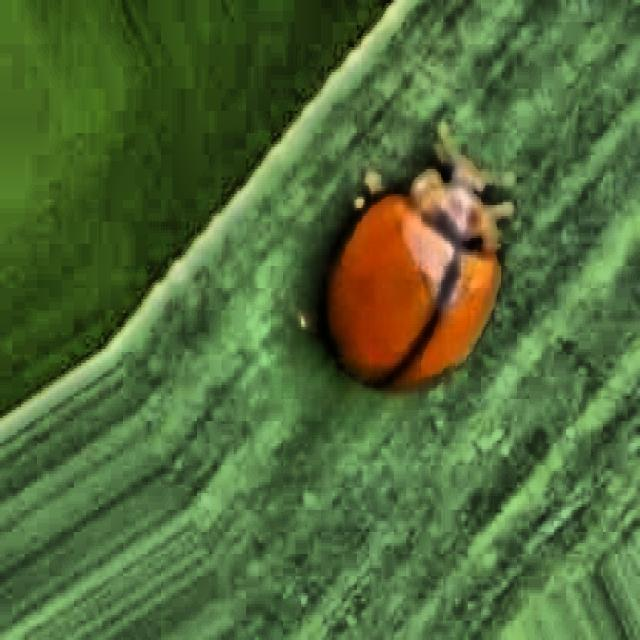Ladybug: (305, 93, 545, 449)
